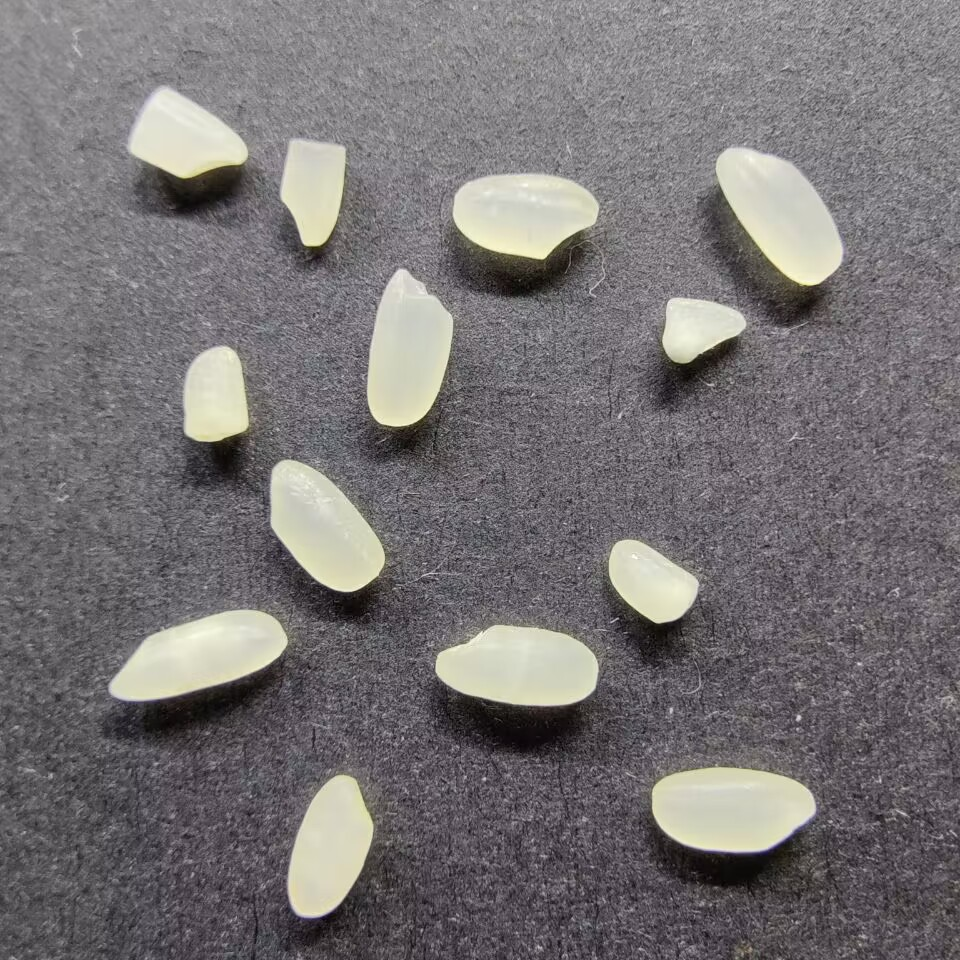broken: (126, 85, 248, 180), (607, 537, 699, 624), (278, 136, 348, 247), (178, 344, 250, 444), (659, 296, 745, 365)
rice: (714, 144, 844, 287), (107, 607, 290, 702), (267, 458, 387, 593), (364, 266, 455, 428), (650, 766, 816, 854), (433, 623, 600, 708), (451, 171, 600, 261), (284, 772, 374, 920)
